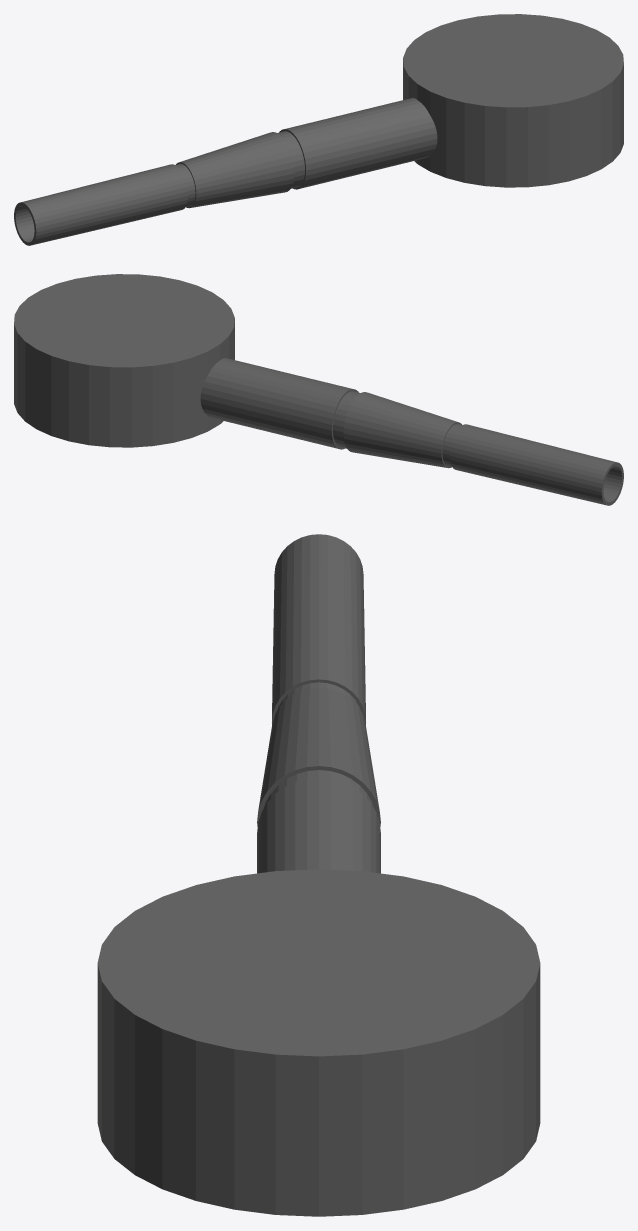
The model's file is TangibleTurret2.fbx.
The picture shows the model from 3 angles, top to bottom: view 1: azimuth 30°, elevation 25°; view 2: azimuth 150°, elevation 25°; view 3: azimuth 270°, elevation 25°; orthographic projection. The views are drawn at different scales.
Parts seen in each view (by area): view 1: Head; view 2: Head; view 3: Head.
Boxes of the visible parts, bbox=[...] form: Head: bbox=[14, 14, 623, 245]; Head: bbox=[14, 274, 623, 505]; Head: bbox=[97, 534, 540, 1216].
Size of the model in its own units: 1310 by 172 by 430.
